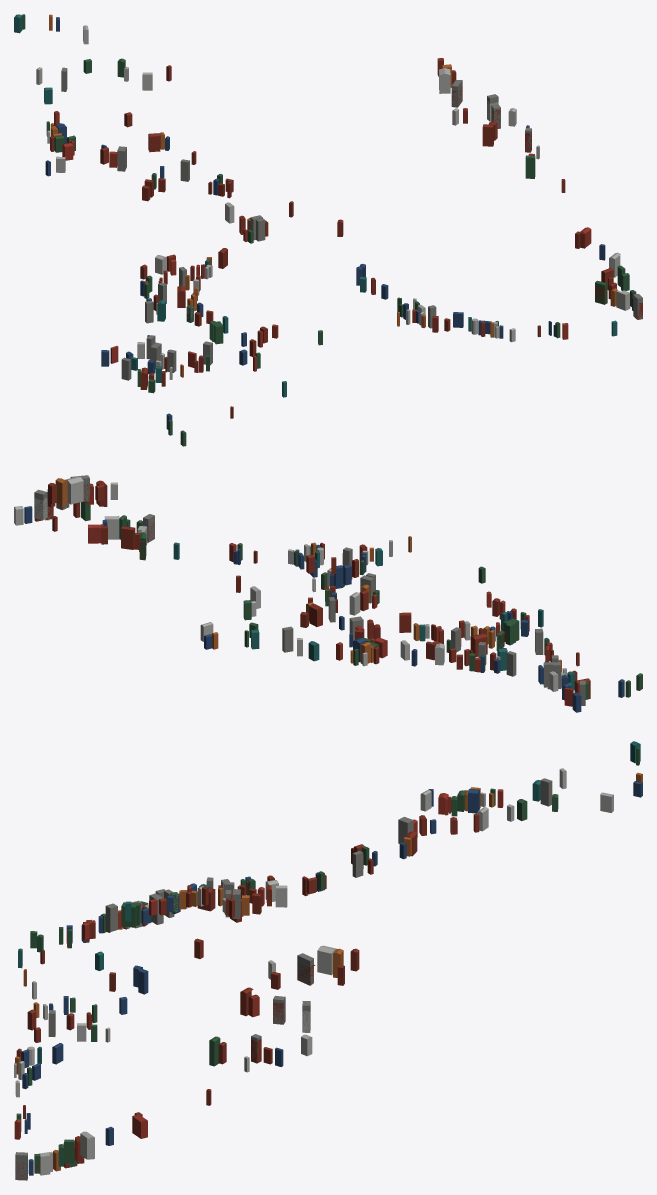
The model's file is near-16-54734-29740.1730770a.glb.
3 renders of one model, top to bottom at view 1: azimuth 30°, elevation 25°; view 2: azimuth 150°, elevation 25°; view 3: azimuth 270°, elevation 25°, orthographic. The views are drawn at different scales.
Bounding box in the file's own units: 590 × 260 × 576.
